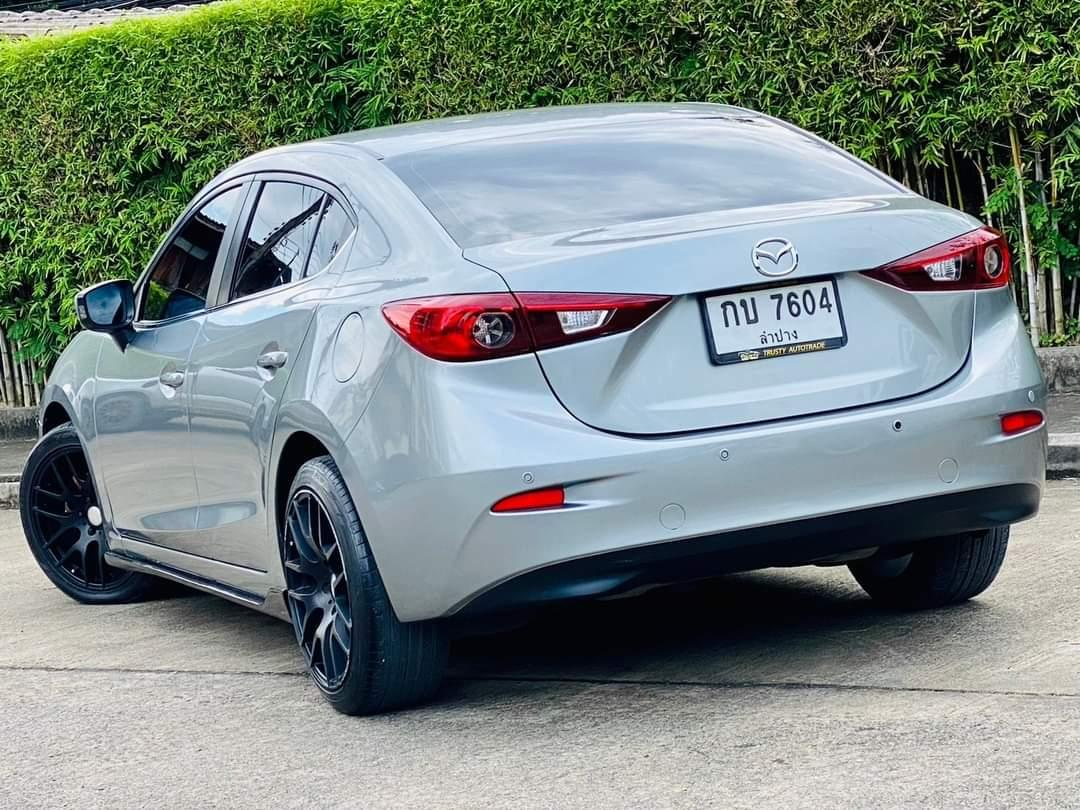license-plate: (695, 271, 850, 369)
